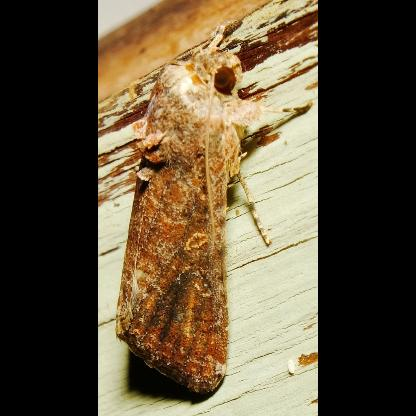Fall Armyworm Moth: (112, 18, 316, 398)
